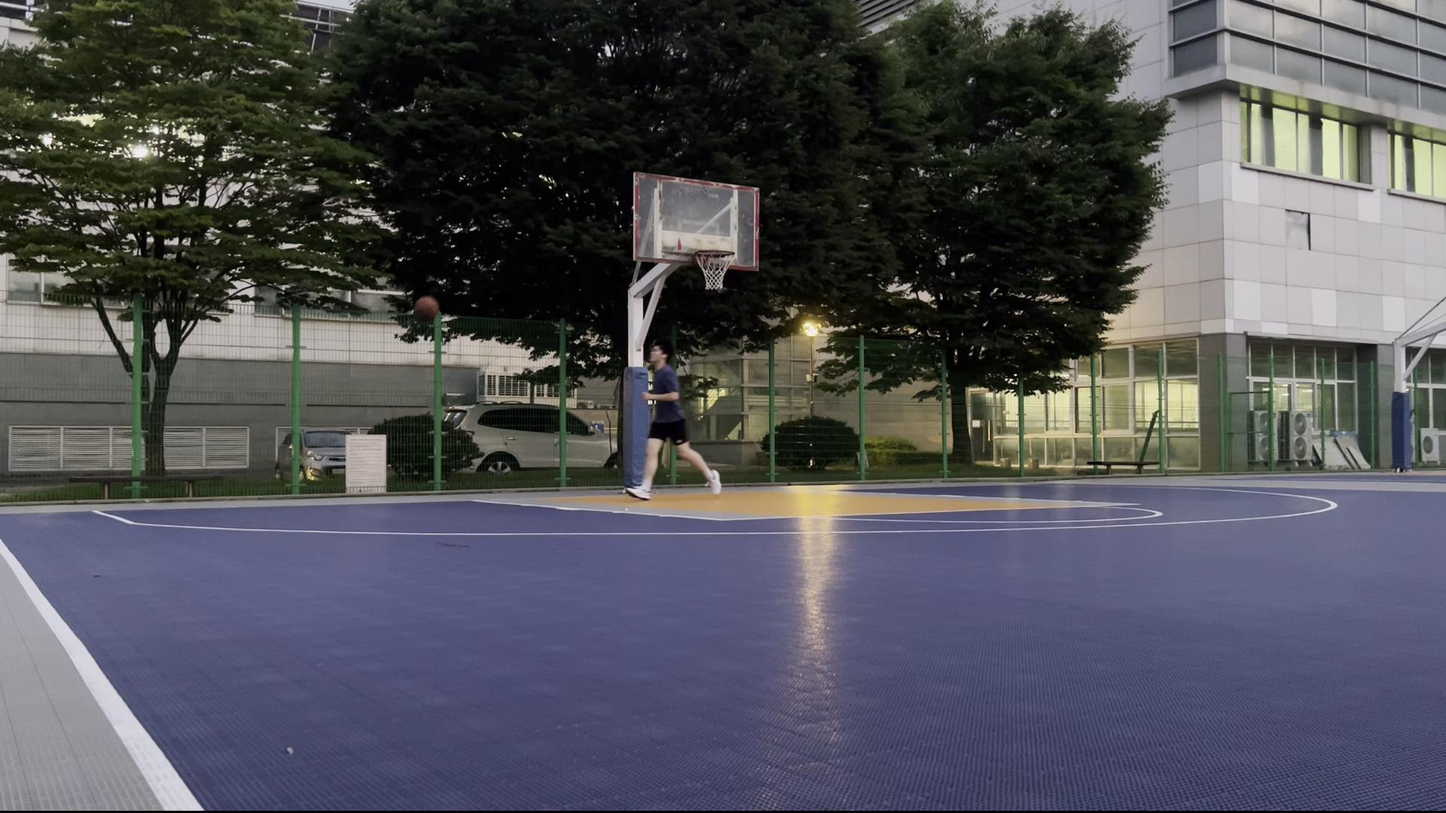ball: (413, 297, 439, 321)
human: (623, 338, 722, 501)
rim: (694, 249, 737, 291)
